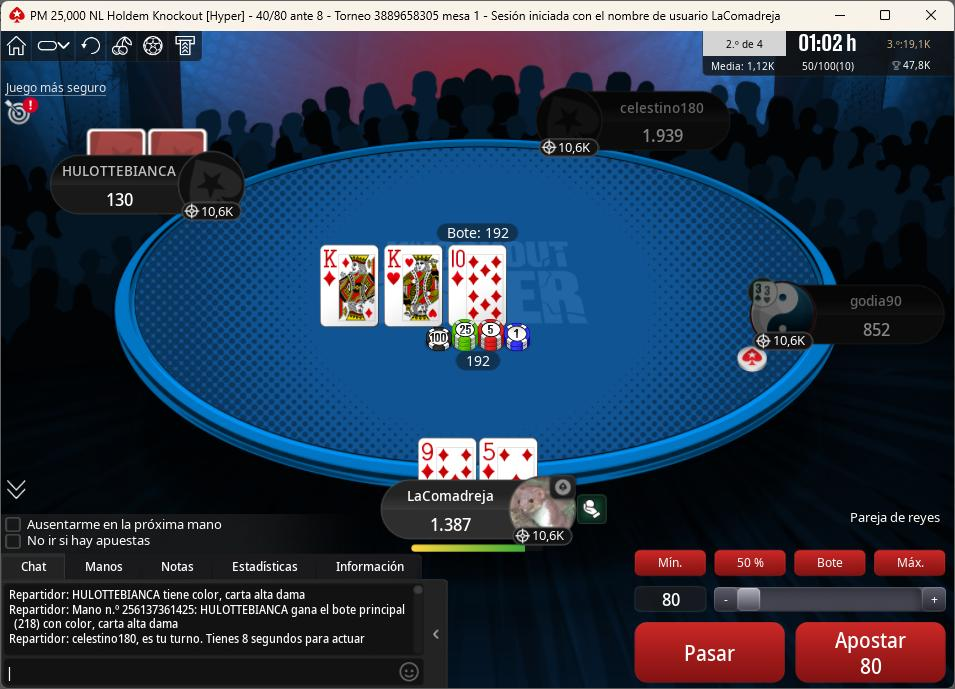ButtonCall: (623, 617, 782, 686)
ButtonMaxRaise: (872, 548, 949, 580)
ButtonMinRaise: (634, 549, 714, 580)
ButtonRaise: (790, 617, 951, 686)
HiddenCards: (84, 132, 216, 160)
Player: (745, 283, 950, 349), (46, 151, 247, 215), (544, 90, 732, 155)
PlayerChips: (631, 126, 692, 143), (97, 191, 143, 211), (859, 324, 903, 343)
Pot: (433, 224, 522, 243)
PrincipalCards: (415, 438, 545, 484)
PrincipalCards1: (415, 436, 478, 482)
PrincipalCards2: (480, 436, 542, 482)
PrincipalPlayer: (385, 478, 595, 553)
PrincipalPlayerChips: (419, 518, 482, 537)
ShowedCards: (315, 243, 512, 332)
ShowedCards1: (319, 245, 384, 331)
ShowedCards2: (384, 246, 446, 329)
ShowedCards3: (446, 247, 510, 330)
SmallBigBlind: (246, 4, 343, 26)
TablePot: (419, 319, 567, 377)
